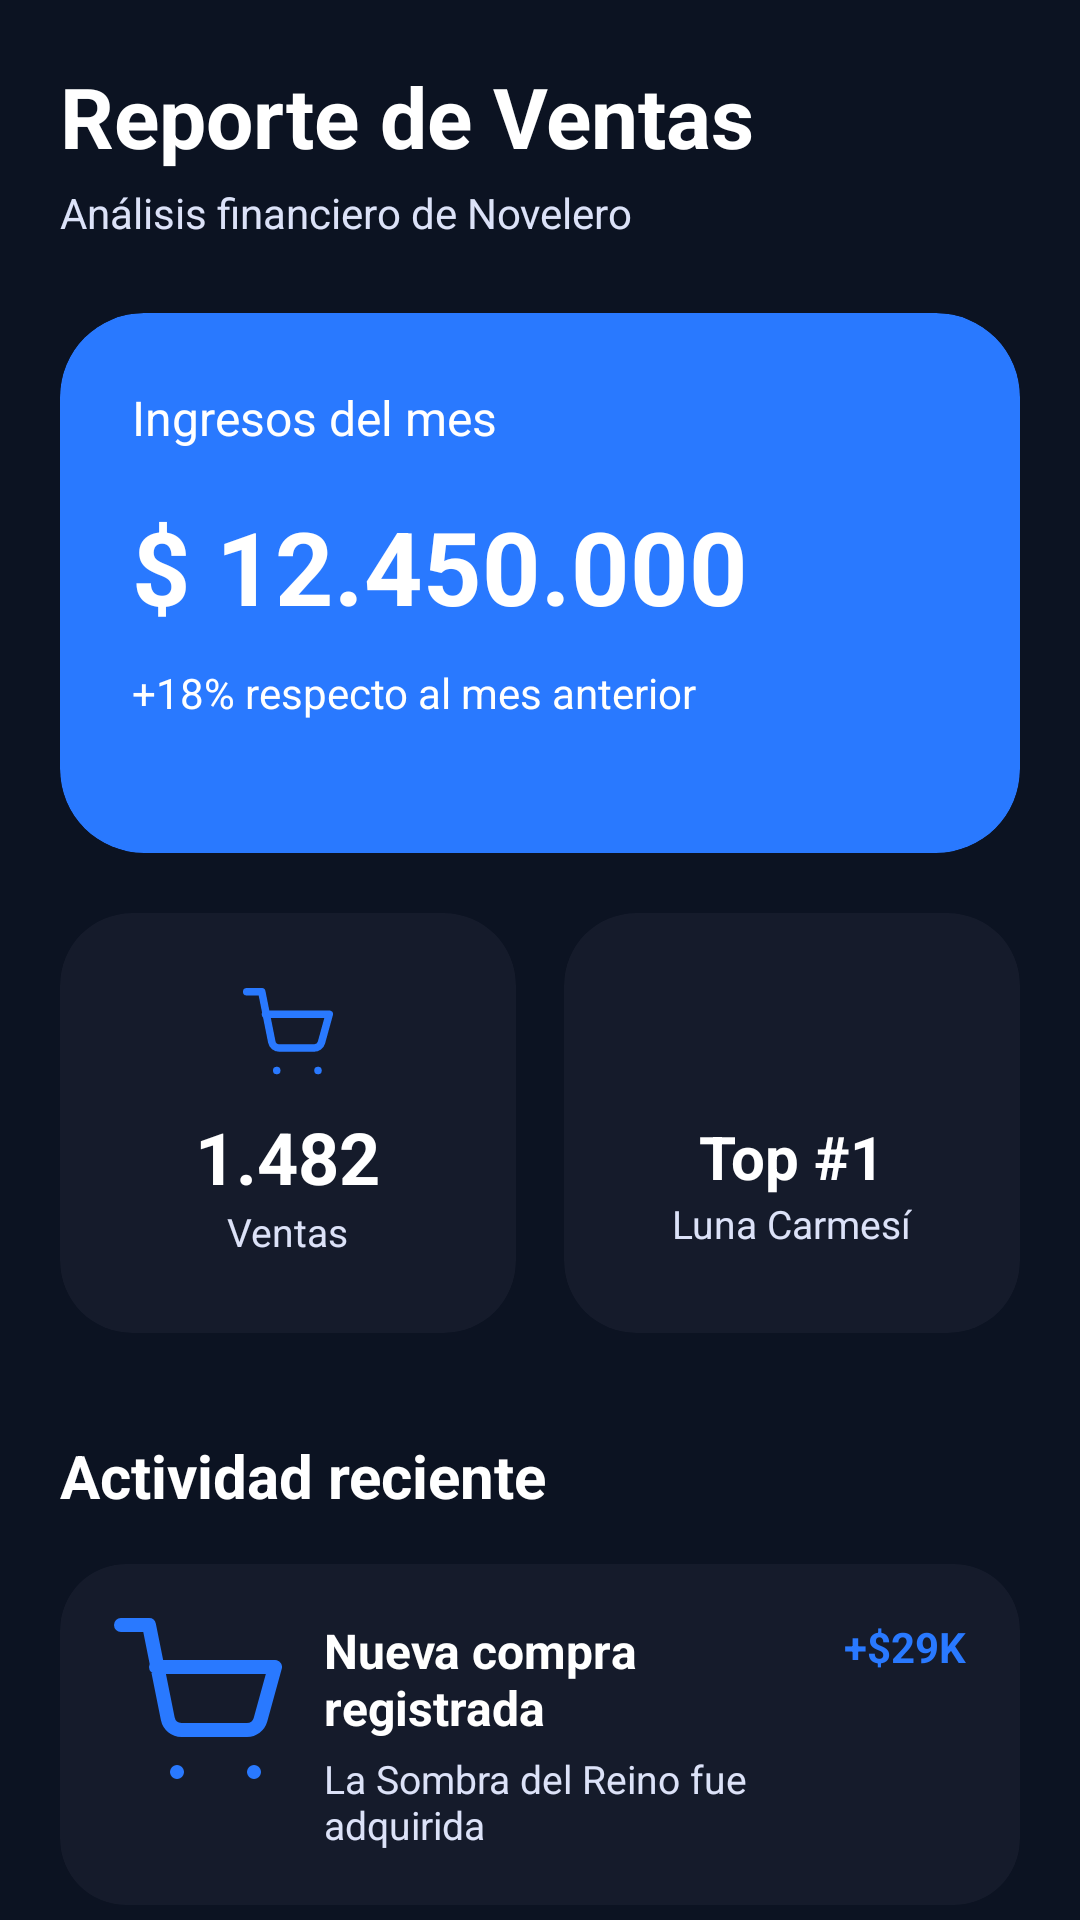

Named icons in this screenshot (1080×1920) and their centers, point (x, y):
carrito: point (288, 1031), point (198, 1698)
